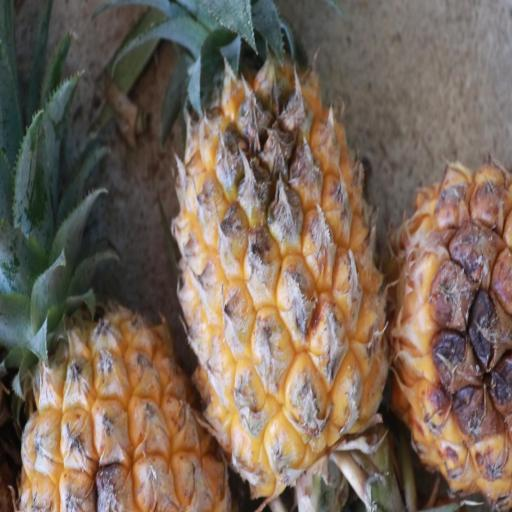Pineapple - v8 v1: (163, 42, 382, 512), (18, 141, 236, 512), (388, 151, 512, 512)
